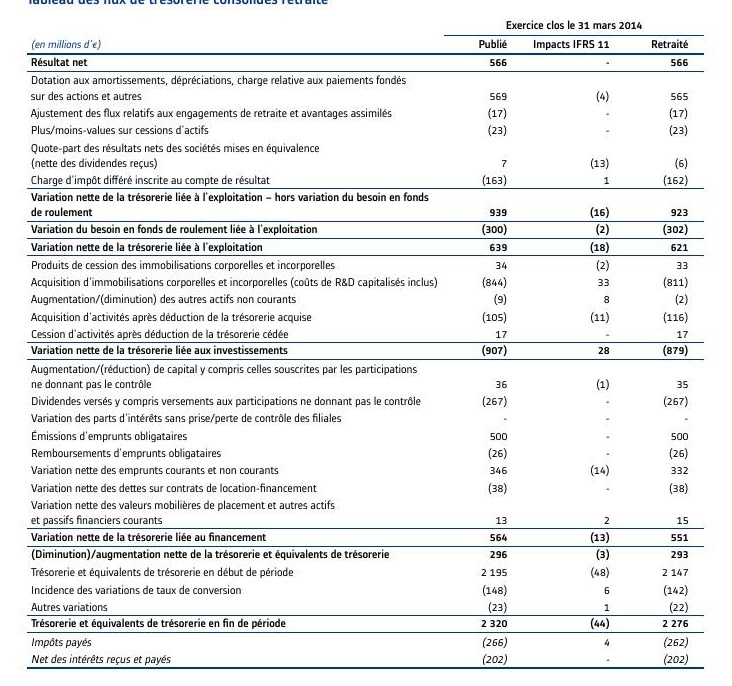table: (0, 0, 732, 686)
